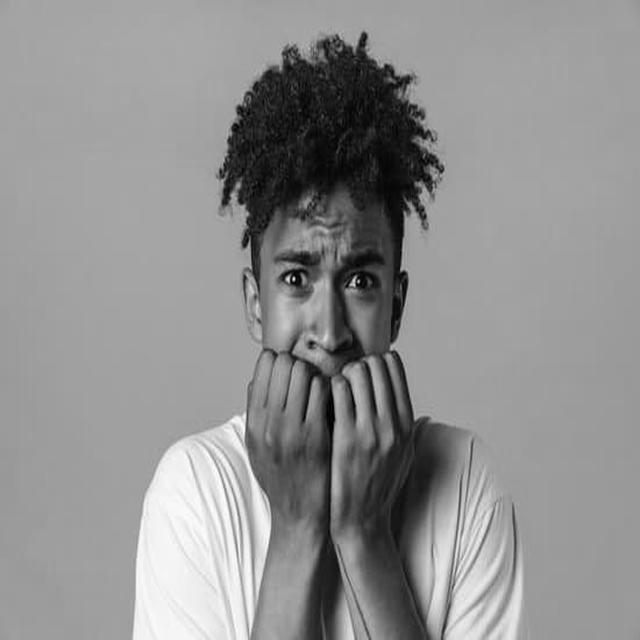Fear: (259, 184, 391, 420)
